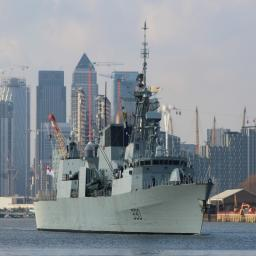Fragata: (33, 15, 219, 238)
